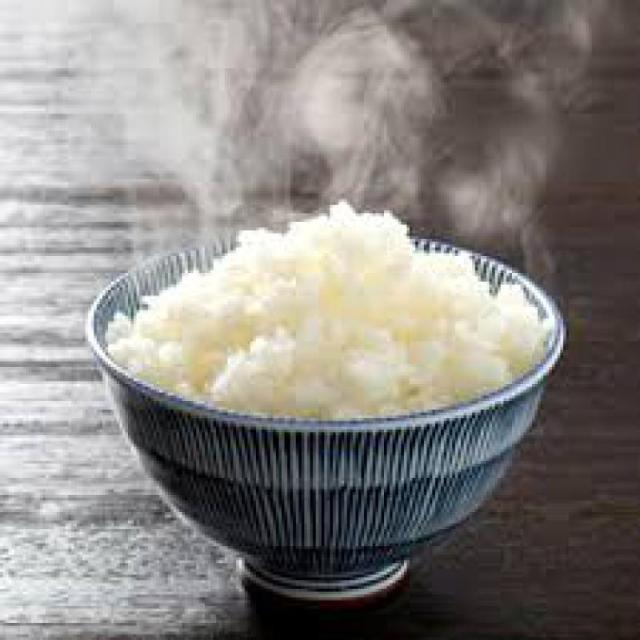nasi_putih: (107, 201, 548, 420)
